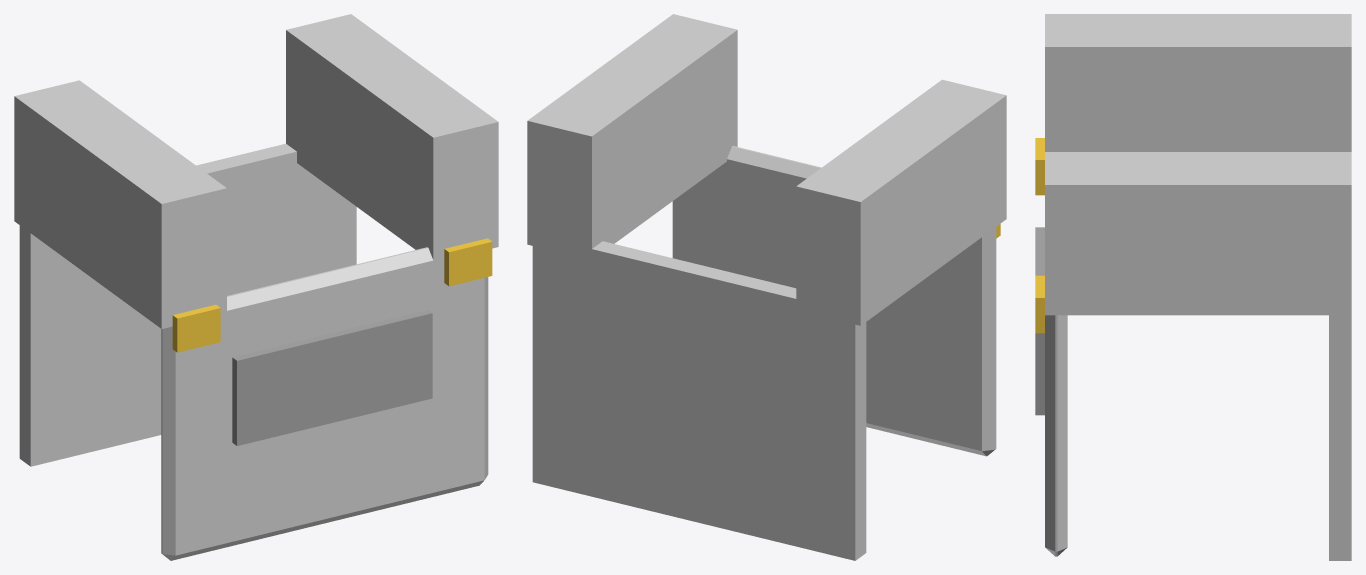
The model's file is overall.glb.
3 views of the same model, side by side, from view 1: azimuth 30°, elevation 25°; view 2: azimuth 150°, elevation 25°; view 3: azimuth 270°, elevation 25° (orthographic). The views are drawn at different scales.
Parts seen in each view (by area): view 1: overall; view 2: overall; view 3: overall.
Boxes of the visible parts, box(x1,y1,x2,y2) form: overall: box(14, 14, 498, 560); overall: box(527, 14, 1006, 560); overall: box(1035, 14, 1351, 560).
Size of the model in its own units: 0.62 by 0.64 by 0.485.
